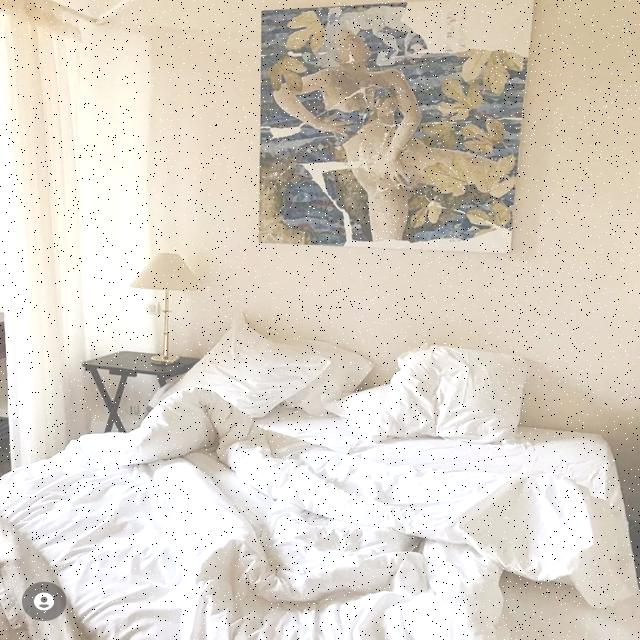bed: (0, 311, 640, 640)
